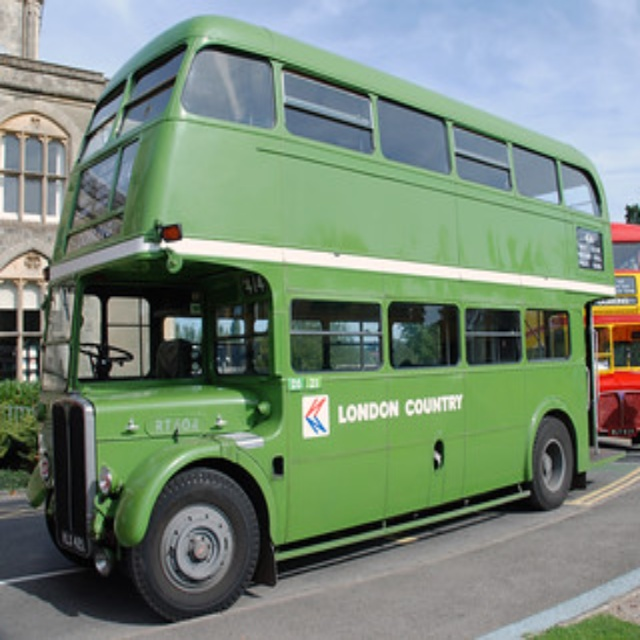Bus: (24, 14, 616, 621)
